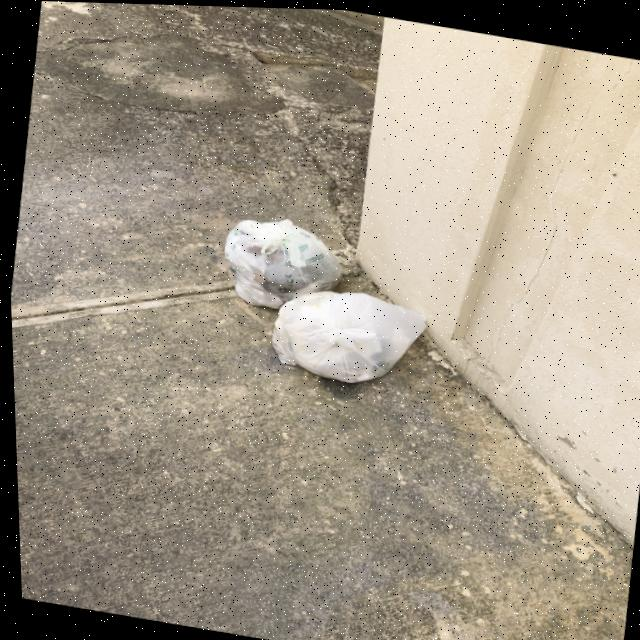Organic Waste -White Bag-: (265, 276, 434, 396), (215, 211, 350, 320)
